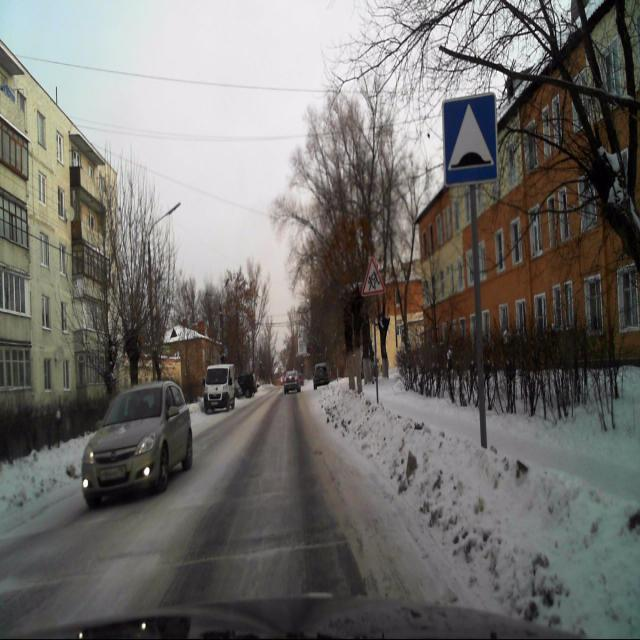object: (470, 187, 488, 448), (372, 295, 380, 405)
road sign: (442, 95, 498, 189), (360, 256, 384, 295)
